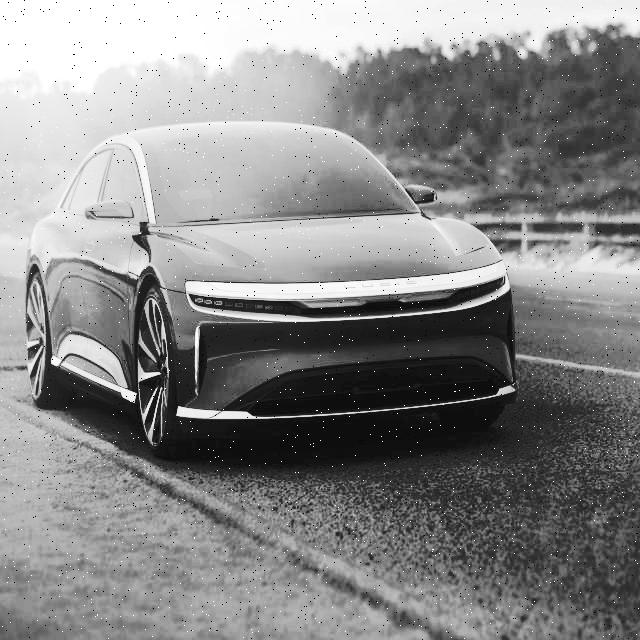Car: (13, 115, 537, 464)
